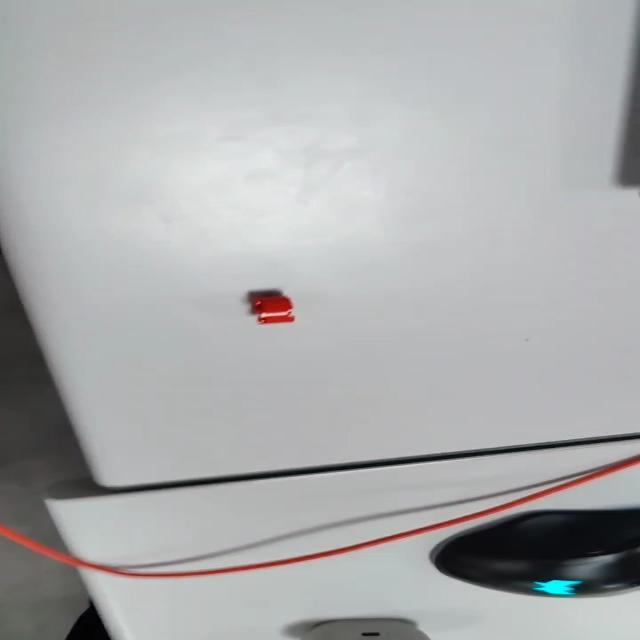S2x2x1: (246, 288, 298, 325)
